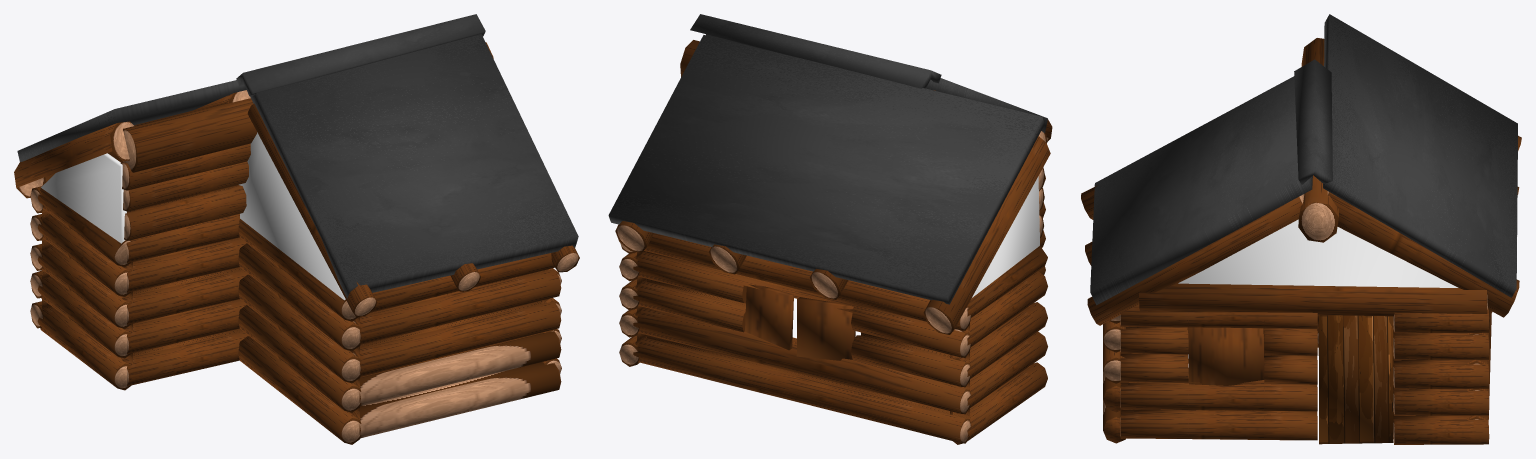
The model's file is Cabana_1.fbx.
3 renders of one model, left to right at view 1: azimuth 30°, elevation 25°; view 2: azimuth 150°, elevation 25°; view 3: azimuth 270°, elevation 25°, orthographic. The views are drawn at different scales.
Visible parts, largest first — view 1: Cabine; view 2: Cabine; view 3: Cabine.
Boxes of the visible parts, <box> form: Cabine: <box>14,14,579,444</box>; Cabine: <box>608,14,1052,444</box>; Cabine: <box>1081,14,1521,444</box>.
Size of the model in its own units: 677 by 515 by 719.
